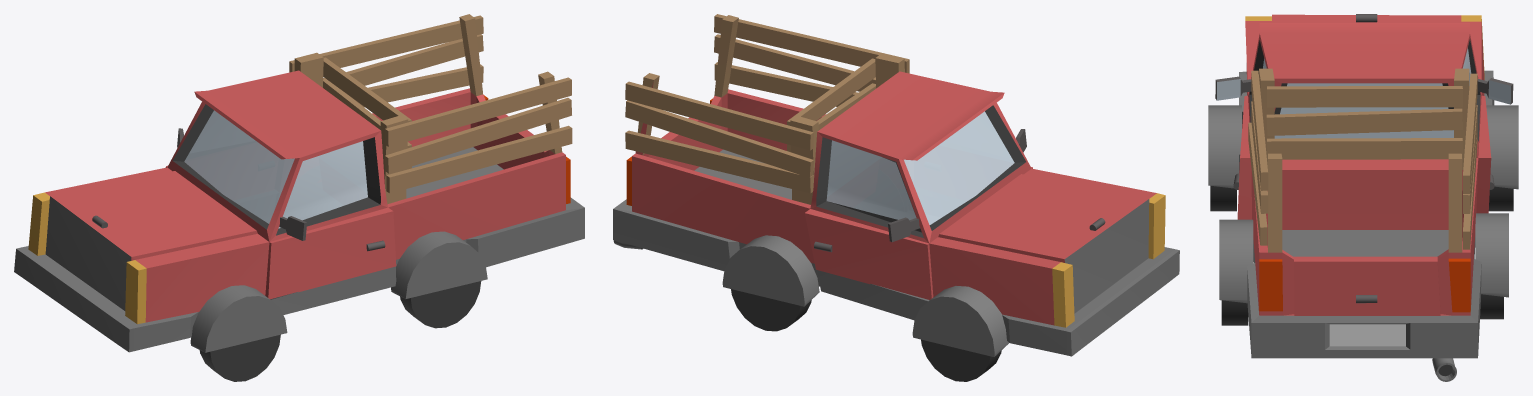
The model's file is truck.fbx.
The picture shows the model from 3 angles, left to right: view 1: azimuth 30°, elevation 25°; view 2: azimuth 150°, elevation 25°; view 3: azimuth 270°, elevation 25°; orthographic projection. The views are drawn at different scales.
Parts seen in each view (by area): view 1: pCube1, polySurface1 (×2), pCylinder2 (×2), pCube3, pCube4, pCube2, pCube5, pCube6, pCube7, pCube8, pCube9, pCube11; view 2: pCube1, polySurface1 (×2), pCylinder2 (×2), pCube5, pCube6, pCube7, pCube4, pCube3, pCube2, pCube8, pCube9, pCube12; view 3: pCube1, polySurface1 (×4), pCube9, pCube8, pCube10, pCylinder2 (×4), pCube4, pCube5, pCube2, pCube11, pCube12, pCube7 (+3 smaller).
Boxes of the visible parts, box(x1,y1,x2,y2) form: pCube1: box(14, 14, 584, 352); polySurface1 (×2): box(190, 231, 487, 352); pCylinder2 (×2): box(199, 281, 481, 381); pCube3: box(385, 97, 571, 173); pCube4: box(385, 77, 571, 146); pCube2: box(386, 125, 572, 193); pCube5: box(289, 15, 483, 72); pCube6: box(346, 34, 483, 85); pCube7: box(351, 64, 483, 107); pCube8: box(323, 57, 411, 122); pCube9: box(323, 78, 411, 148); pCube11: box(279, 216, 306, 240); pCube1: box(613, 15, 1179, 356); polySurface1 (×2): box(722, 235, 1008, 356); pCylinder2 (×2): box(731, 289, 1001, 381); pCube5: box(625, 81, 813, 150); pCube6: box(625, 100, 813, 177); pCube7: box(625, 130, 813, 193); pCube4: box(714, 14, 909, 73); pCube3: box(714, 34, 875, 91); pCube2: box(714, 62, 857, 106); pCube8: box(787, 58, 875, 125); pCube9: box(787, 83, 875, 152); pCube12: box(888, 217, 919, 242); pCube1: box(1237, 14, 1494, 358); polySurface1 (×4): box(1208, 105, 1518, 303); pCube9: box(1266, 108, 1462, 135); pCube8: box(1267, 86, 1462, 107); pCube10: box(1267, 138, 1462, 159); pCylinder2 (×4): box(1210, 185, 1513, 325); pCube4: box(1251, 70, 1268, 190); pCube5: box(1463, 73, 1477, 193); pCube2: box(1248, 122, 1267, 245); pCube11: box(1215, 76, 1251, 100); pCube12: box(1477, 78, 1513, 104); pCube7: box(1463, 126, 1477, 249).
Bounding box in the file's own units: 31.22 × 12.88 × 15.44.
